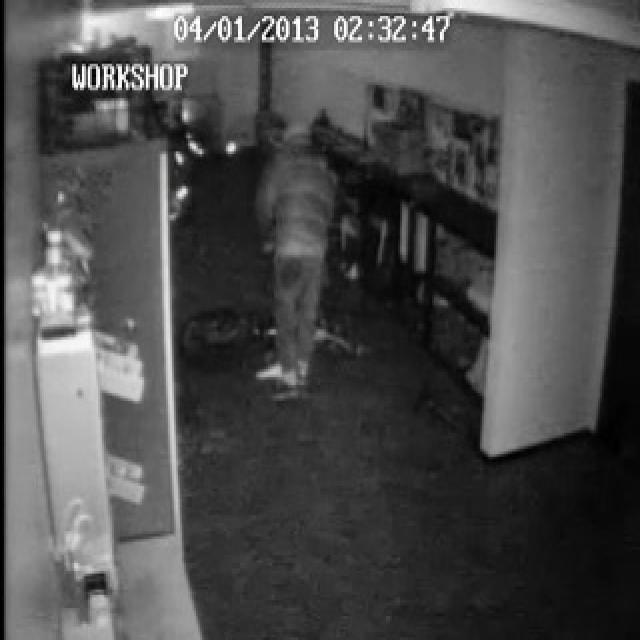thief: (266, 115, 338, 351)
